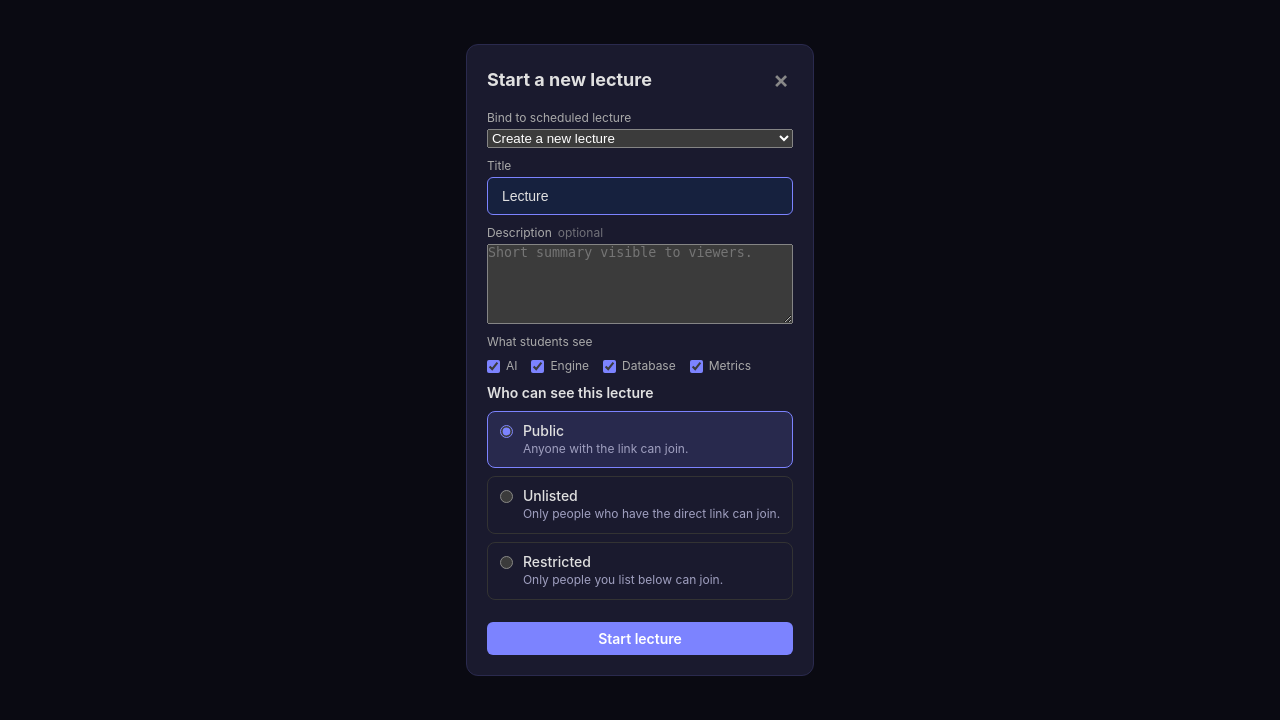
it: <CreateLectureModal> KS-4000 (bind to scheduled) › выбор привязки скрывает поля title/tools/access
Select "Lecture lec-x — Jul 1, 2026, 03:00 PM" in the dropdown with test id "create-lecture-bind-select": (640, 139) left=487, top=129, right=793, bottom=148
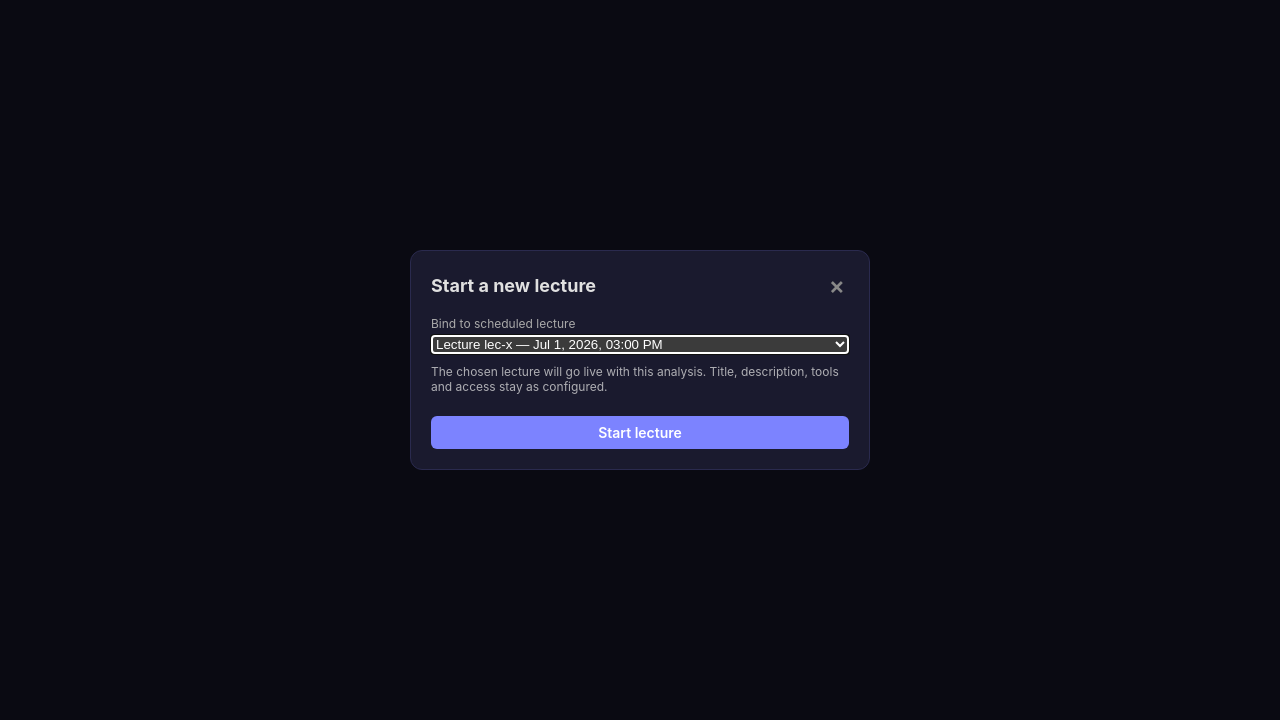
Expected: the element with test id "create-lecture-tools-section" is gone
Expected: the element with test id "create-lecture-access-section" is gone
Expected: the text with test id "create-lecture-bind-info" is shown, left=431, top=364, right=849, bottom=394
